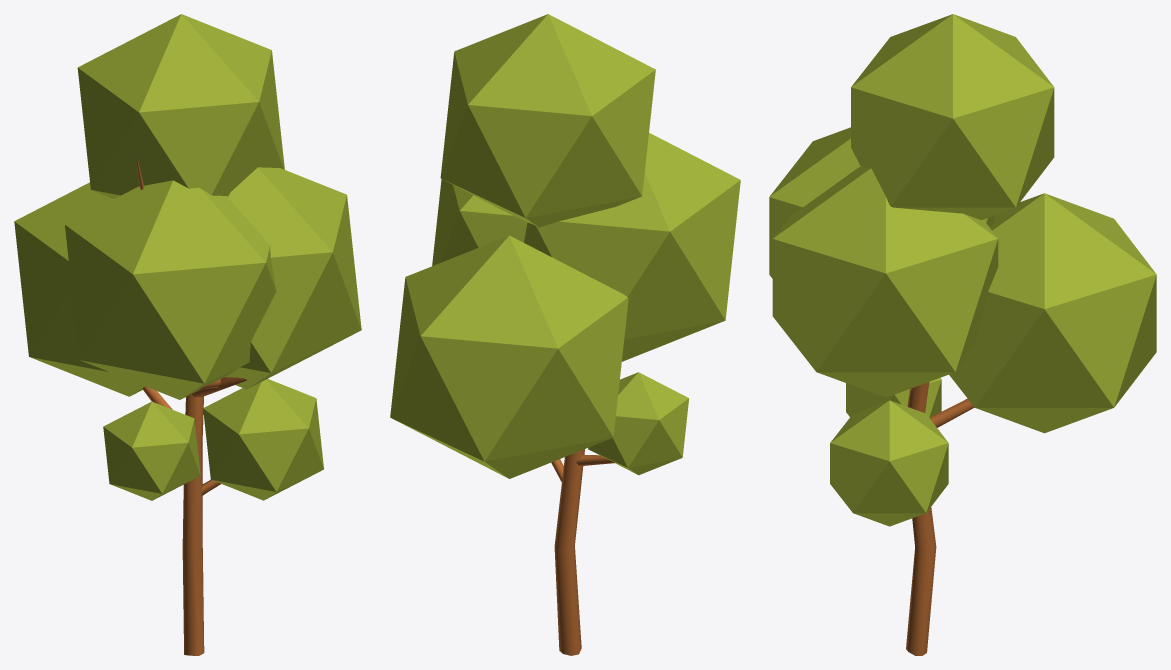
The model's file is oakTreesVisual.glb.
3 renders of one model, left to right at view 1: azimuth 30°, elevation 25°; view 2: azimuth 150°, elevation 25°; view 3: azimuth 270°, elevation 25°, orthographic. The views are drawn at different scales.
Visible parts, largest first — view 1: treeLeaves.007, treeLeaves.006, treeLeaves.009, treeLeaves.010, treeLeaves.008, treeLeaves.011, treeBody.012; view 2: treeLeaves.008, treeLeaves.006, treeLeaves.007, treeLeaves.011, treeBody.012, treeLeaves.009; view 3: treeLeaves.009, treeLeaves.008, treeLeaves.006, treeLeaves.010, treeLeaves.007, treeBody.012, treeLeaves.011.
Part boxes in pixels (left/top/right/bottom): treeLeaves.007: left=65, top=180, right=276, bottom=399; treeLeaves.006: left=77, top=14, right=284, bottom=198; treeLeaves.009: left=224, top=167, right=361, bottom=389; treeLeaves.010: left=203, top=379, right=323, bottom=500; treeLeaves.008: left=14, top=182, right=145, bottom=396; treeLeaves.011: left=103, top=401, right=200, bottom=500; treeBody.012: left=136, top=157, right=246, bottom=655; treeLeaves.008: left=390, top=235, right=628, bottom=478; treeLeaves.006: left=440, top=14, right=655, bottom=227; treeLeaves.007: left=524, top=133, right=740, bottom=361; treeLeaves.011: left=588, top=372, right=688, bottom=475; treeBody.012: left=551, top=449, right=614, bottom=655; treeLeaves.009: left=432, top=179, right=527, bottom=265; treeLeaves.009: left=772, top=166, right=998, bottom=397; treeLeaves.008: left=949, top=193, right=1156, bottom=433; treeLeaves.006: left=851, top=14, right=1054, bottom=220; treeLeaves.010: left=830, top=400, right=948, bottom=526; treeLeaves.007: left=769, top=127, right=994, bottom=278; treeBody.012: left=906, top=382, right=974, bottom=655; treeLeaves.011: left=846, top=378, right=941, bottom=417.
Bounding box in the file's own units: 3.74 × 8.31 × 4.56.
1 material, 1 textured.
